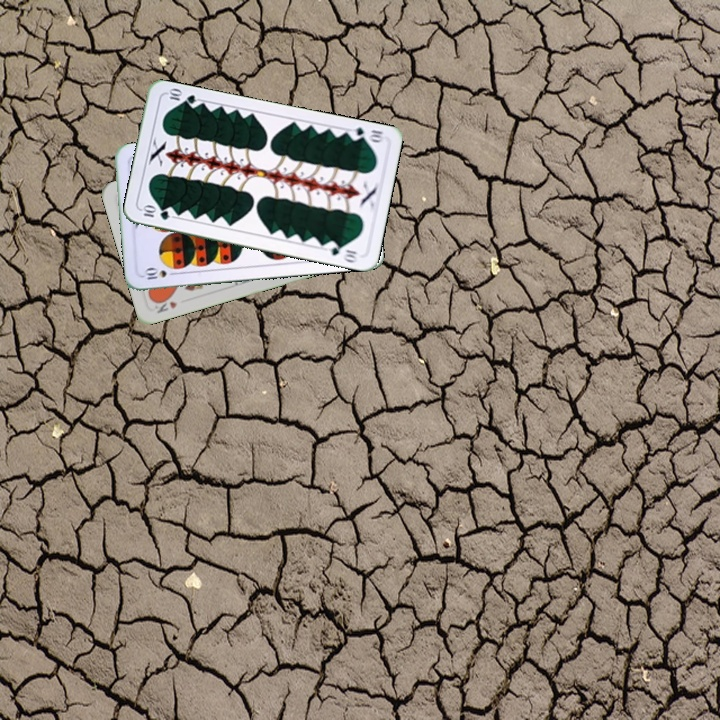G10: (345, 123, 385, 145), (138, 203, 172, 222)
HK: (150, 293, 180, 316)
S10: (139, 265, 180, 282)
